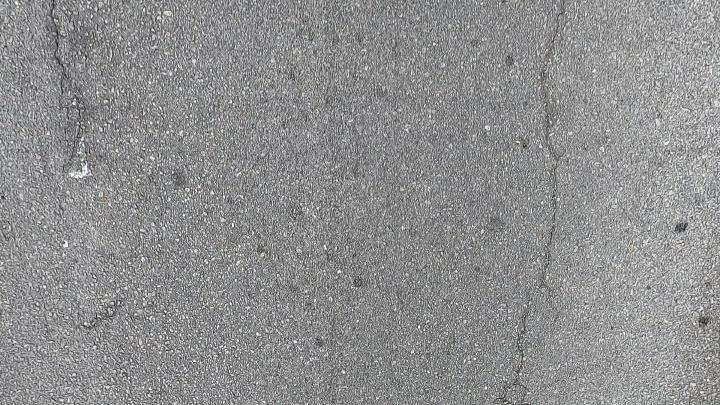Crack: (514, 0, 574, 369), (46, 0, 91, 180), (540, 0, 564, 287), (49, 0, 85, 176), (517, 310, 527, 372)
